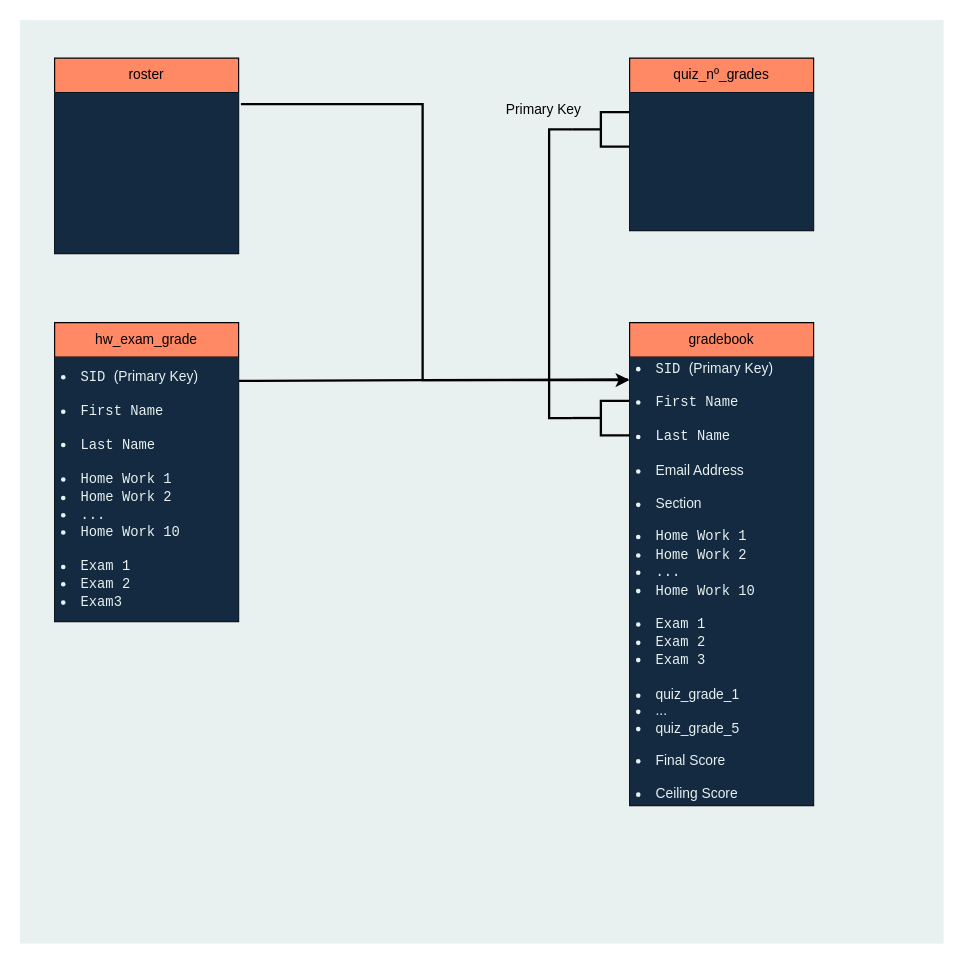
Some shapes in this 963 by 963 pixel diagram are drawn without their labels. Here are the shapes that lost their labels. From the top down, the centre of each, then its label:
At point (146, 172): "NetID (Primary Key) First Name Last Name Section Email Address".
At point (721, 161): "First Name Last Name Email Address Grade".
